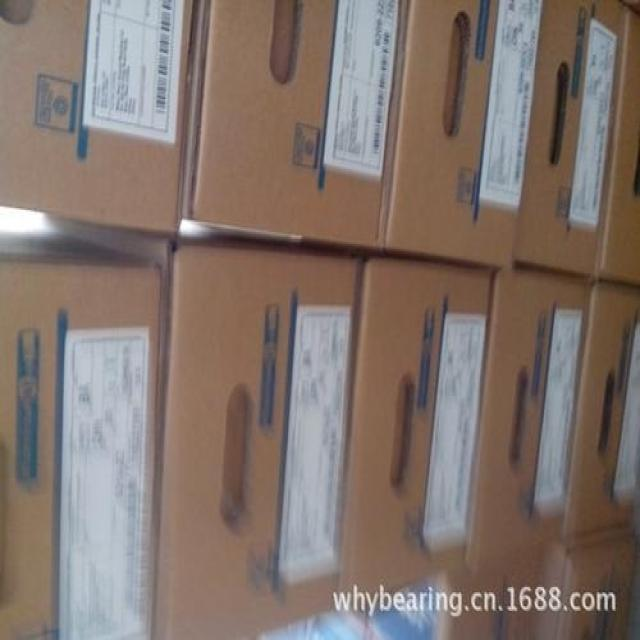box: (45, 212, 362, 638), (0, 232, 162, 638), (186, 1, 407, 248), (446, 268, 593, 638), (342, 259, 495, 614), (2, 0, 201, 236), (385, 1, 544, 274), (515, 2, 629, 278), (569, 278, 639, 547), (598, 0, 639, 285), (560, 531, 639, 636)
